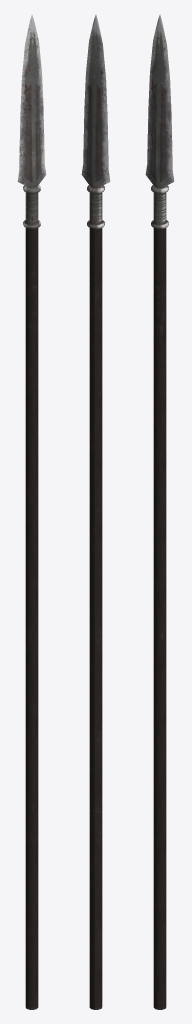
The picture shows the model from 3 angles, left to right: view 1: azimuth 30°, elevation 25°; view 2: azimuth 150°, elevation 25°; view 3: azimuth 330°, elevation 25°; orthographic projection.
Parts seen in each view (by area): view 1: SM_LothricLongSpear01_LOD0; view 2: SM_LothricLongSpear01_LOD0; view 3: SM_LothricLongSpear01_LOD0.
Part boxes in pixels (x1,y1,x2,y2): SM_LothricLongSpear01_LOD0: (17, 14, 46, 1009); SM_LothricLongSpear01_LOD0: (81, 14, 110, 1009); SM_LothricLongSpear01_LOD0: (145, 14, 174, 1009).
Size of the model in its own units: 0.0749 by 2.48 by 0.0389.
1 material, 1 textured.
